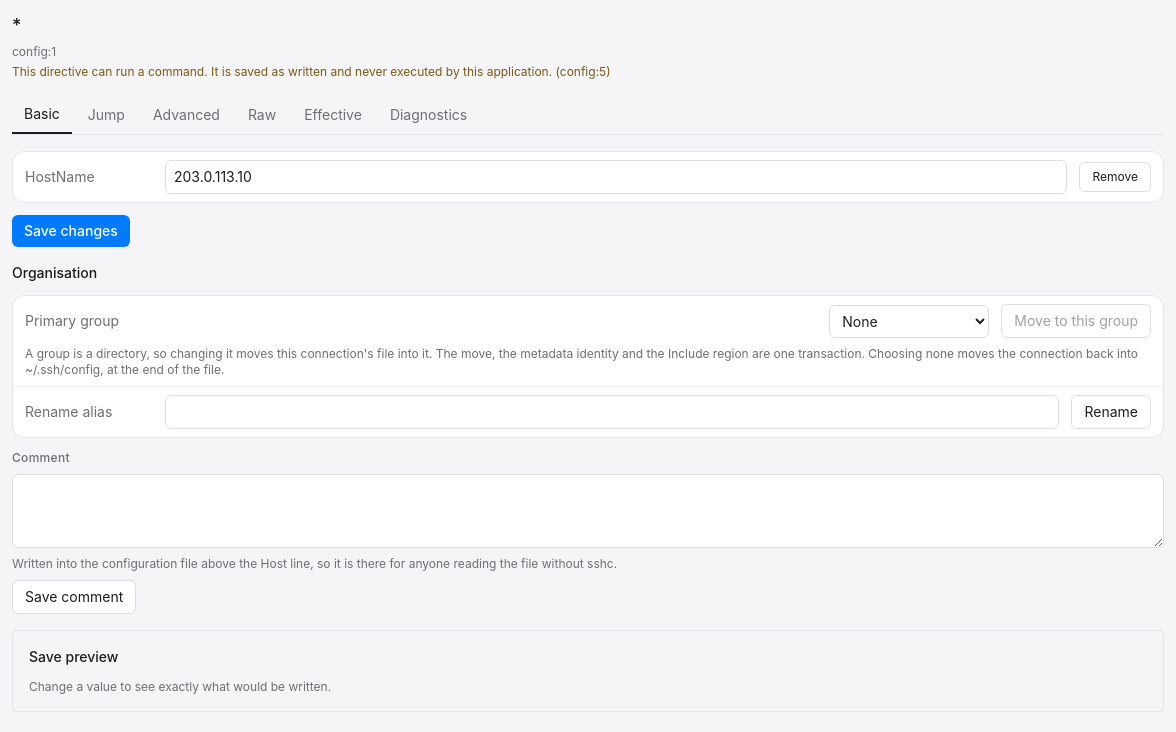
Test: HostDetailPanel › has nothing to diagnose for a block that names no destination
Click the tab "Diagnostics" at (429, 115), box [378,96,479,134]
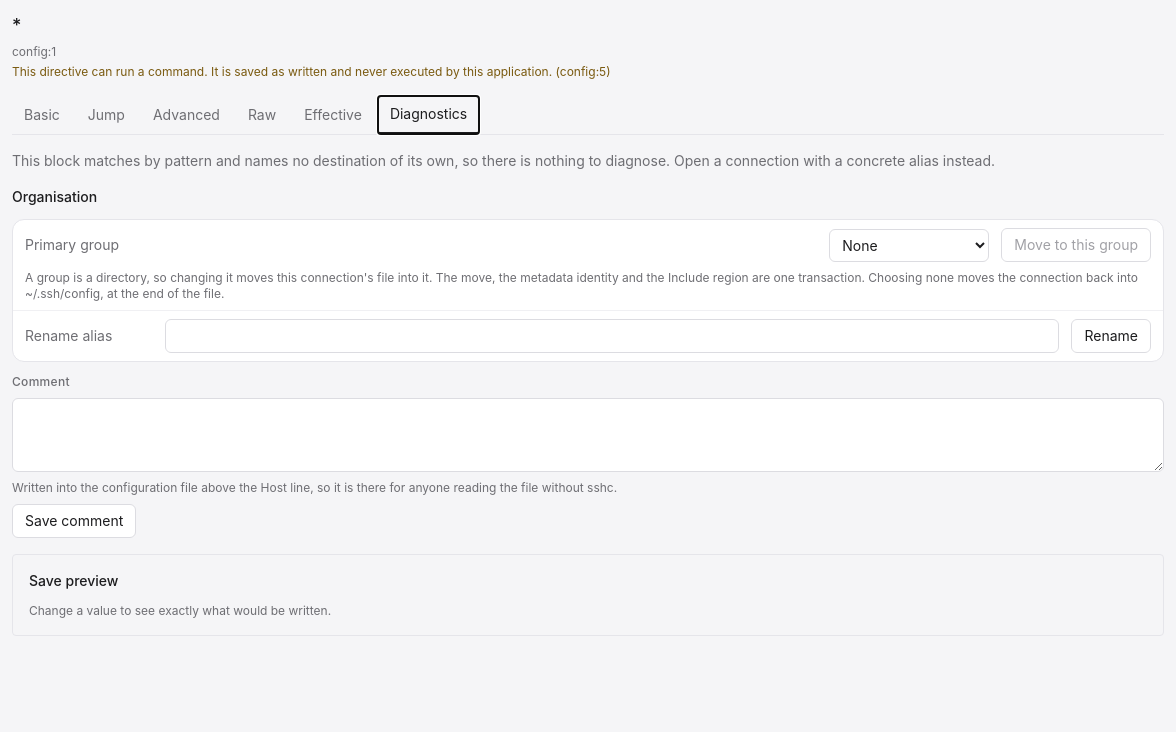
Expected: the text "names no destination of its own" is shown, [12,152,995,169]
